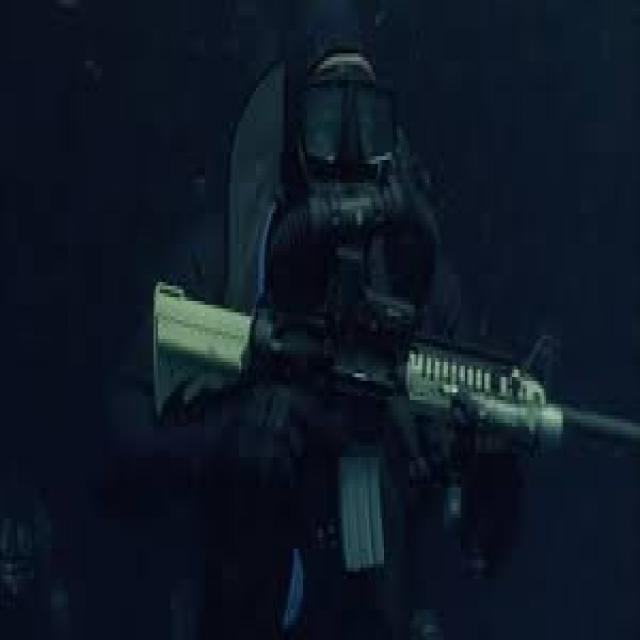weapon: (150, 261, 640, 590)
